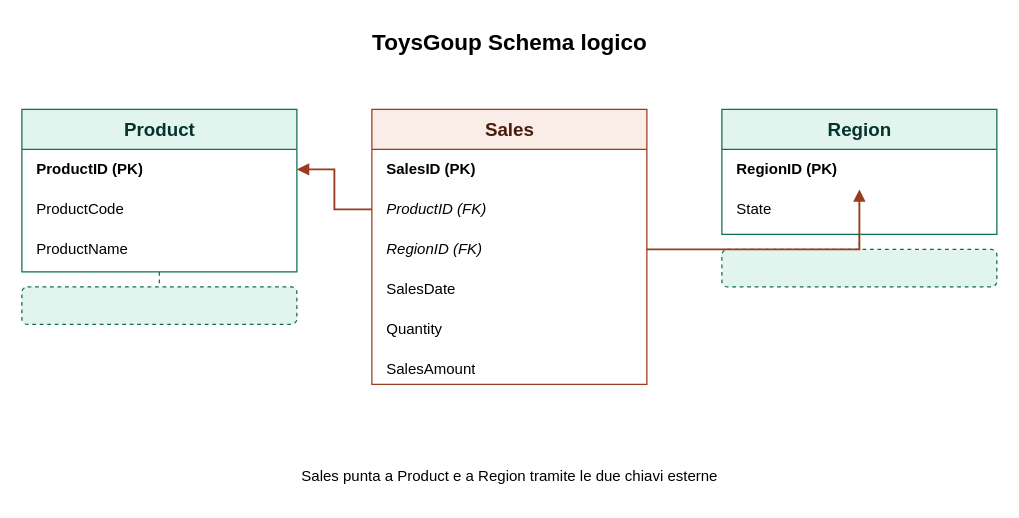
Image size: 1019x518. Some labels were removed from this diagram. Each missing label, with the box of its shape:
Category: (21, 286, 297, 324)
SalesRegion: (721, 248, 997, 287)
